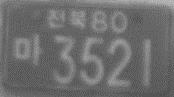0: (110, 11, 128, 34)
1: (141, 38, 152, 86)
2: (107, 37, 133, 89)
3: (52, 34, 76, 83)
5: (79, 37, 105, 86)
8: (91, 9, 108, 34)
마: (14, 32, 42, 67)
전북_O: (47, 7, 86, 30)
